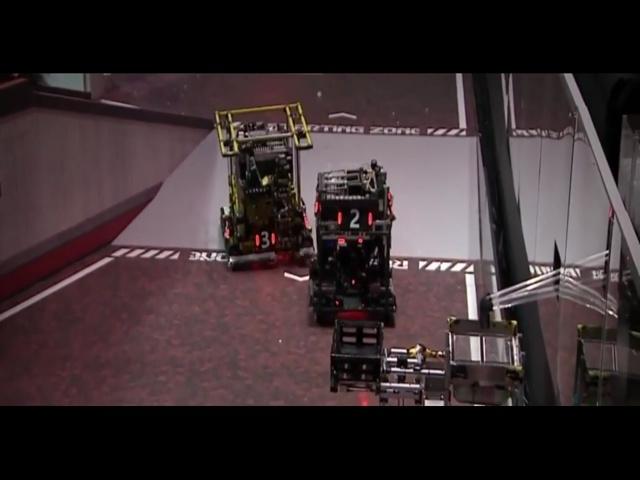plate: (260, 340, 296, 368), (301, 182, 325, 201), (499, 318, 518, 338), (320, 330, 333, 357), (276, 248, 291, 266), (245, 246, 260, 264), (456, 165, 472, 181), (358, 192, 374, 207), (384, 189, 393, 206)
